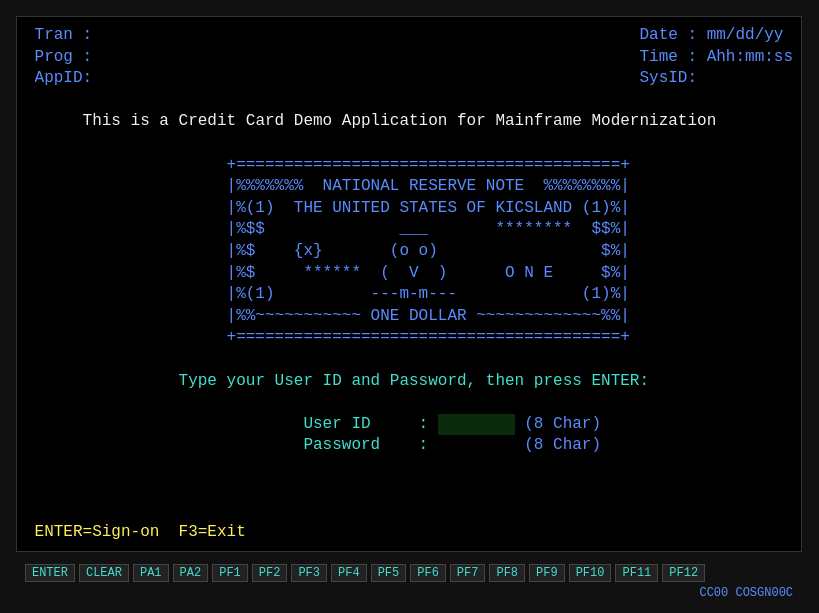
Test case: buildFields › keeps the current map when an XCTL first send fails and retries the GET on ENTER
Later steps or results of the test are not shown.
Click the button "ENTER".
click(50, 573)  # box left=25, top=564, right=75, bottom=582
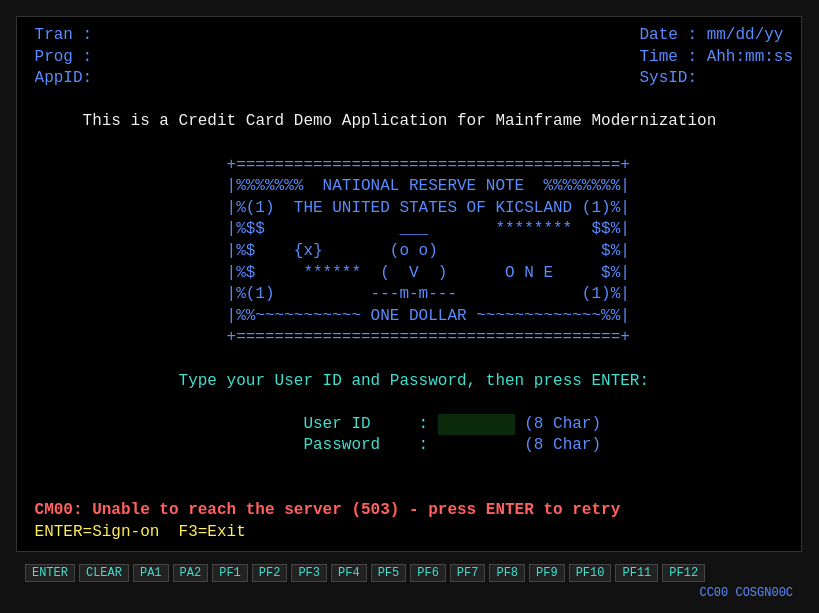
Check: the text "503" is shown, box left=34, top=501, right=620, bottom=519
